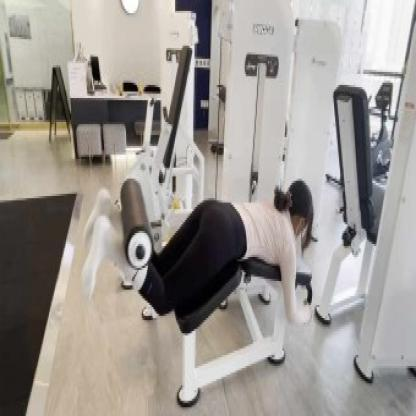reg curl machine: (77, 0, 315, 416)
